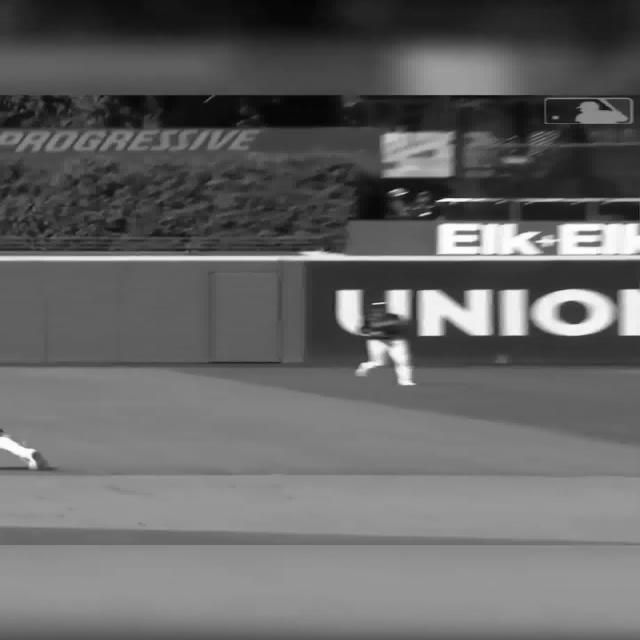shoe: (27, 450, 43, 470), (354, 362, 370, 377), (396, 380, 416, 386)
